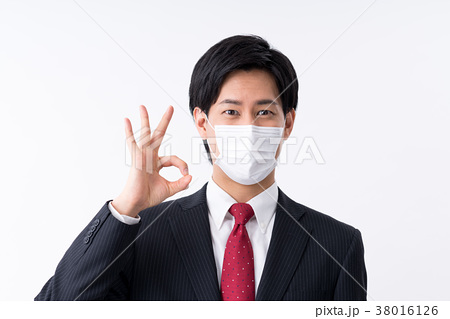mask: (213, 127, 283, 186)
